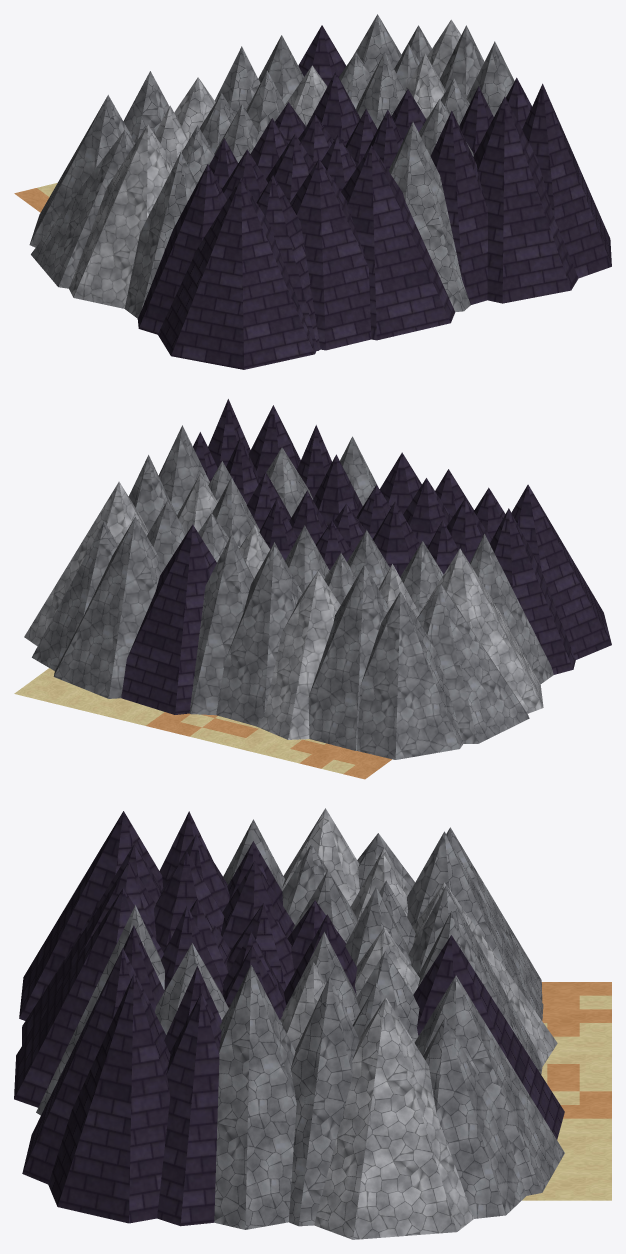
The model's file is chunk_11_23.glb.
The picture shows the model from 3 angles, top to bottom: view 1: azimuth 30°, elevation 25°; view 2: azimuth 150°, elevation 25°; view 3: azimuth 270°, elevation 25°; orthographic projection. The views are drawn at different scales.
Visible parts, largest first — view 1: chunk_11_23; view 2: chunk_11_23; view 3: chunk_11_23.
Part boxes in pixels (<box>): chunk_11_23: <box>14,14,611,369</box>; chunk_11_23: <box>14,399,611,779</box>; chunk_11_23: <box>14,808,611,1239</box>.
Size of the model in its own units: 21.66 by 7.73 by 18.51.
7 materials, 7 textured.
